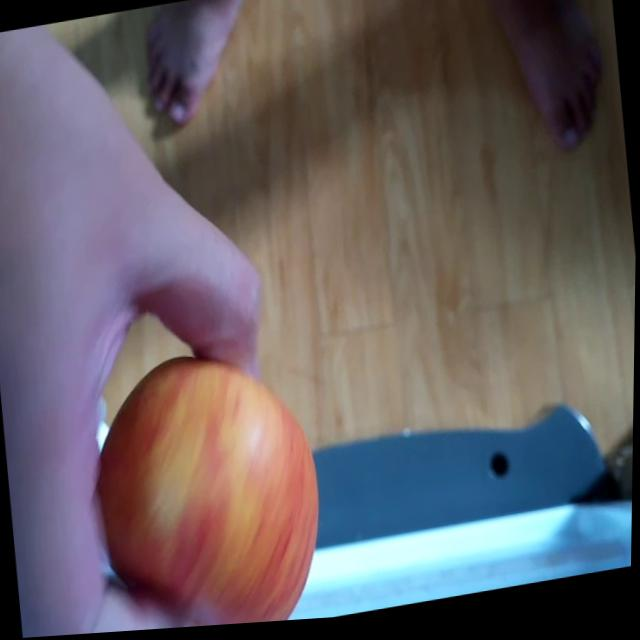apple: (82, 346, 329, 635)
